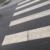zebra: (3, 1, 50, 45)
